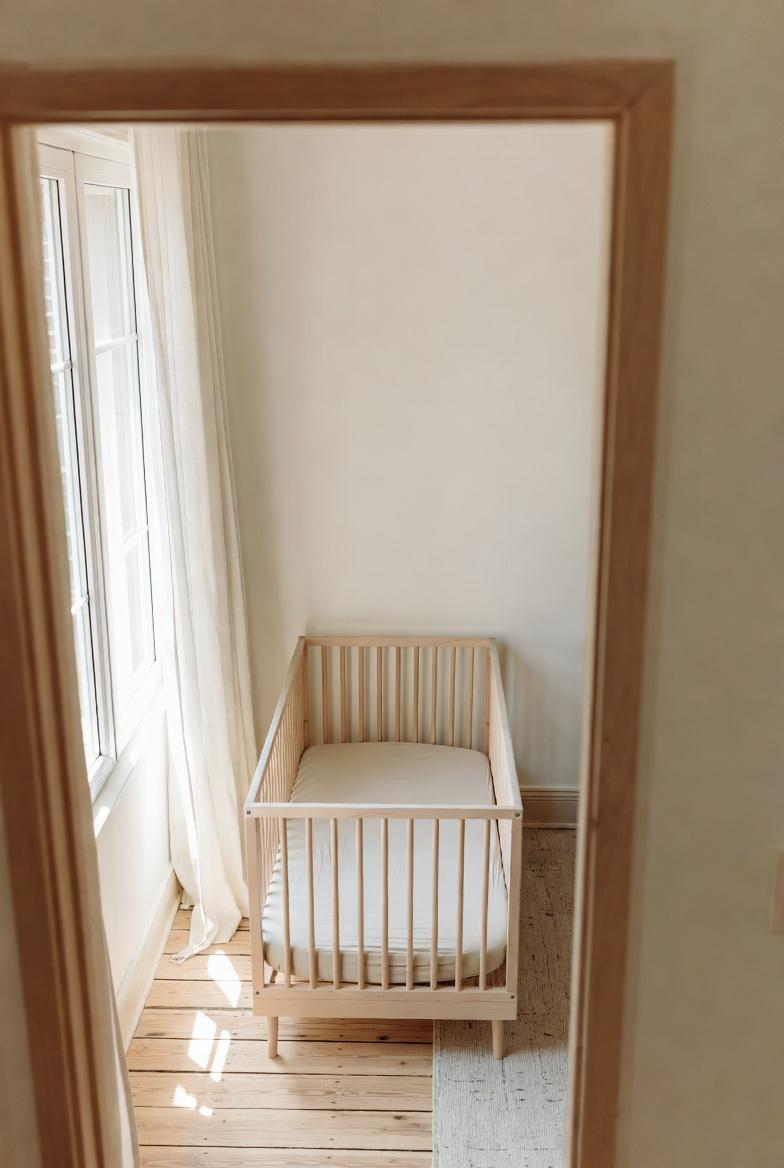crib: (245, 636, 523, 1058)
